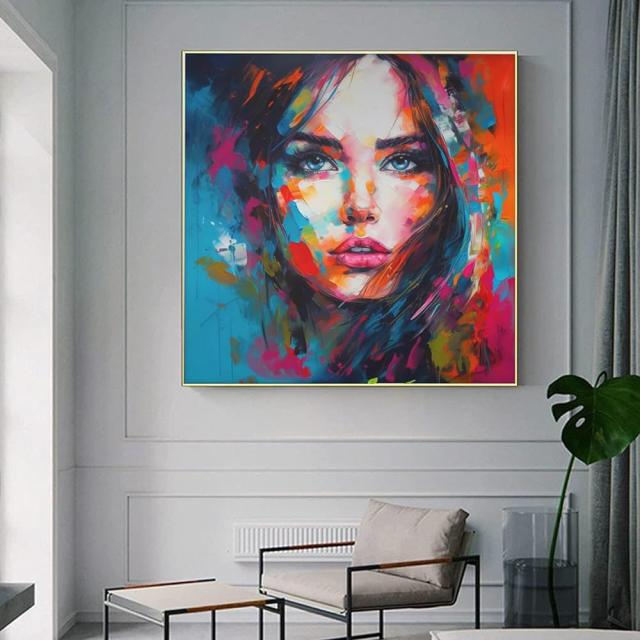painting: (182, 50, 518, 384)
